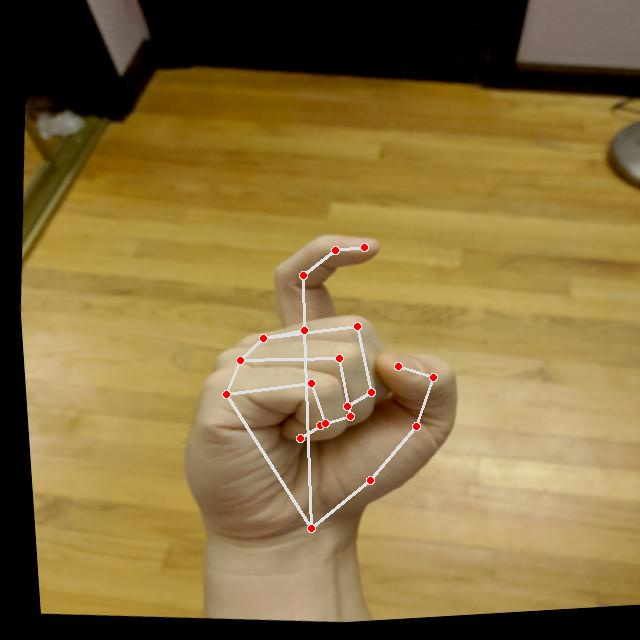X: (147, 213, 480, 570)
